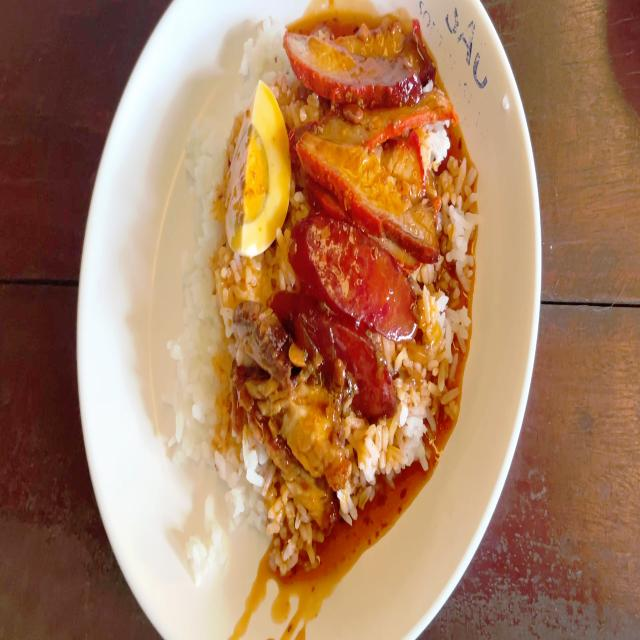boiled_egg: (225, 88, 289, 259)
chainese_sausage: (292, 218, 414, 402)
crispy_pork: (237, 306, 290, 467), (286, 398, 341, 504)
red_pork: (287, 34, 452, 251)
red_pork_and_crispy_pork: (180, 34, 471, 507)
rice: (185, 138, 235, 498), (348, 418, 431, 484)
